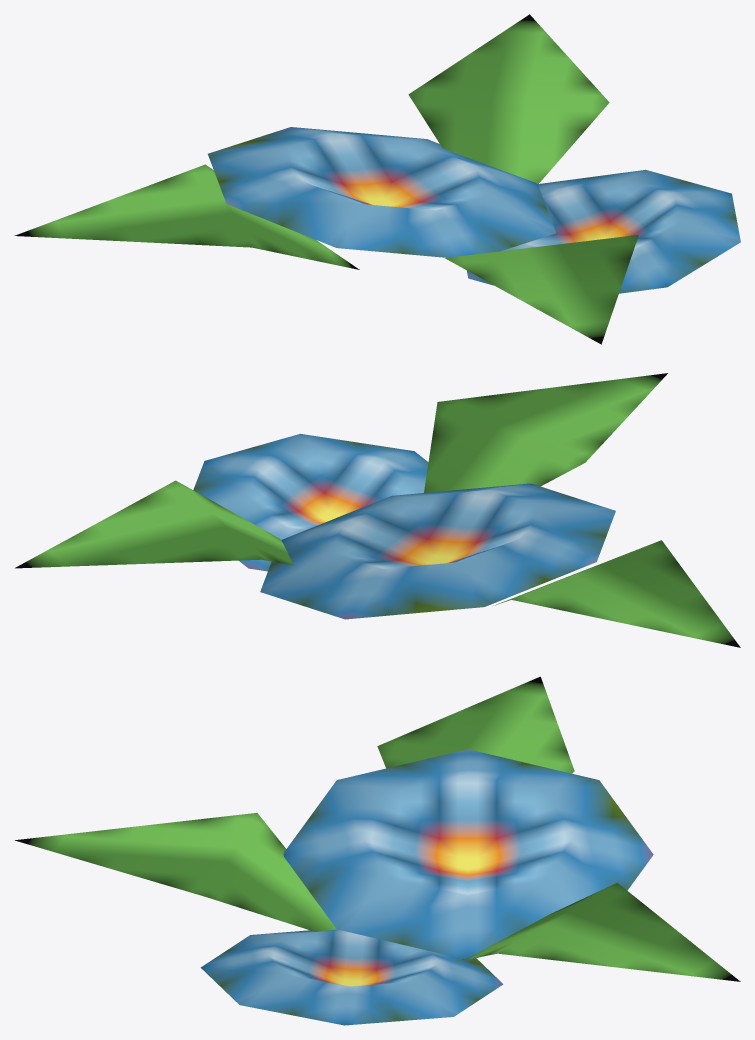
File: deco_flowerPair_blue.FBX
3 views of the same model, one above another, from view 1: azimuth 30°, elevation 25°; view 2: azimuth 150°, elevation 25°; view 3: azimuth 270°, elevation 25° (orthographic). The views are drawn at different scales.
Parts seen in each view (by area): view 1: deco_flowerPair_blue; view 2: deco_flowerPair_blue; view 3: deco_flowerPair_blue.
Part boxes in pixels (x1,y1,x2,y2): deco_flowerPair_blue: [14, 14, 740, 344]; deco_flowerPair_blue: [15, 373, 740, 647]; deco_flowerPair_blue: [15, 676, 740, 1025].
Bounding box in the file's own units: 0.928 × 0.1321 × 0.9215.
1 material, 1 textured.
